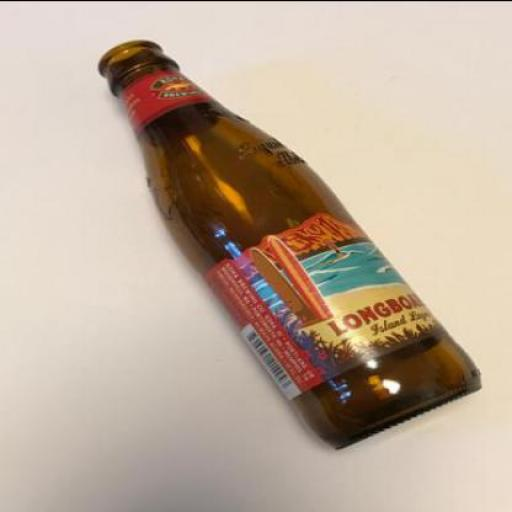glass: (100, 37, 484, 448)
